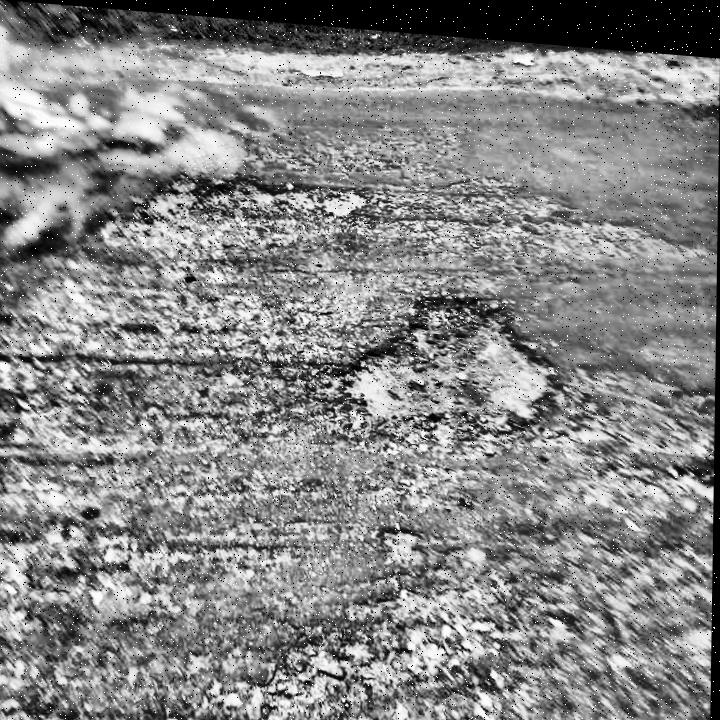pothole: (325, 275, 560, 439), (203, 168, 376, 214)
